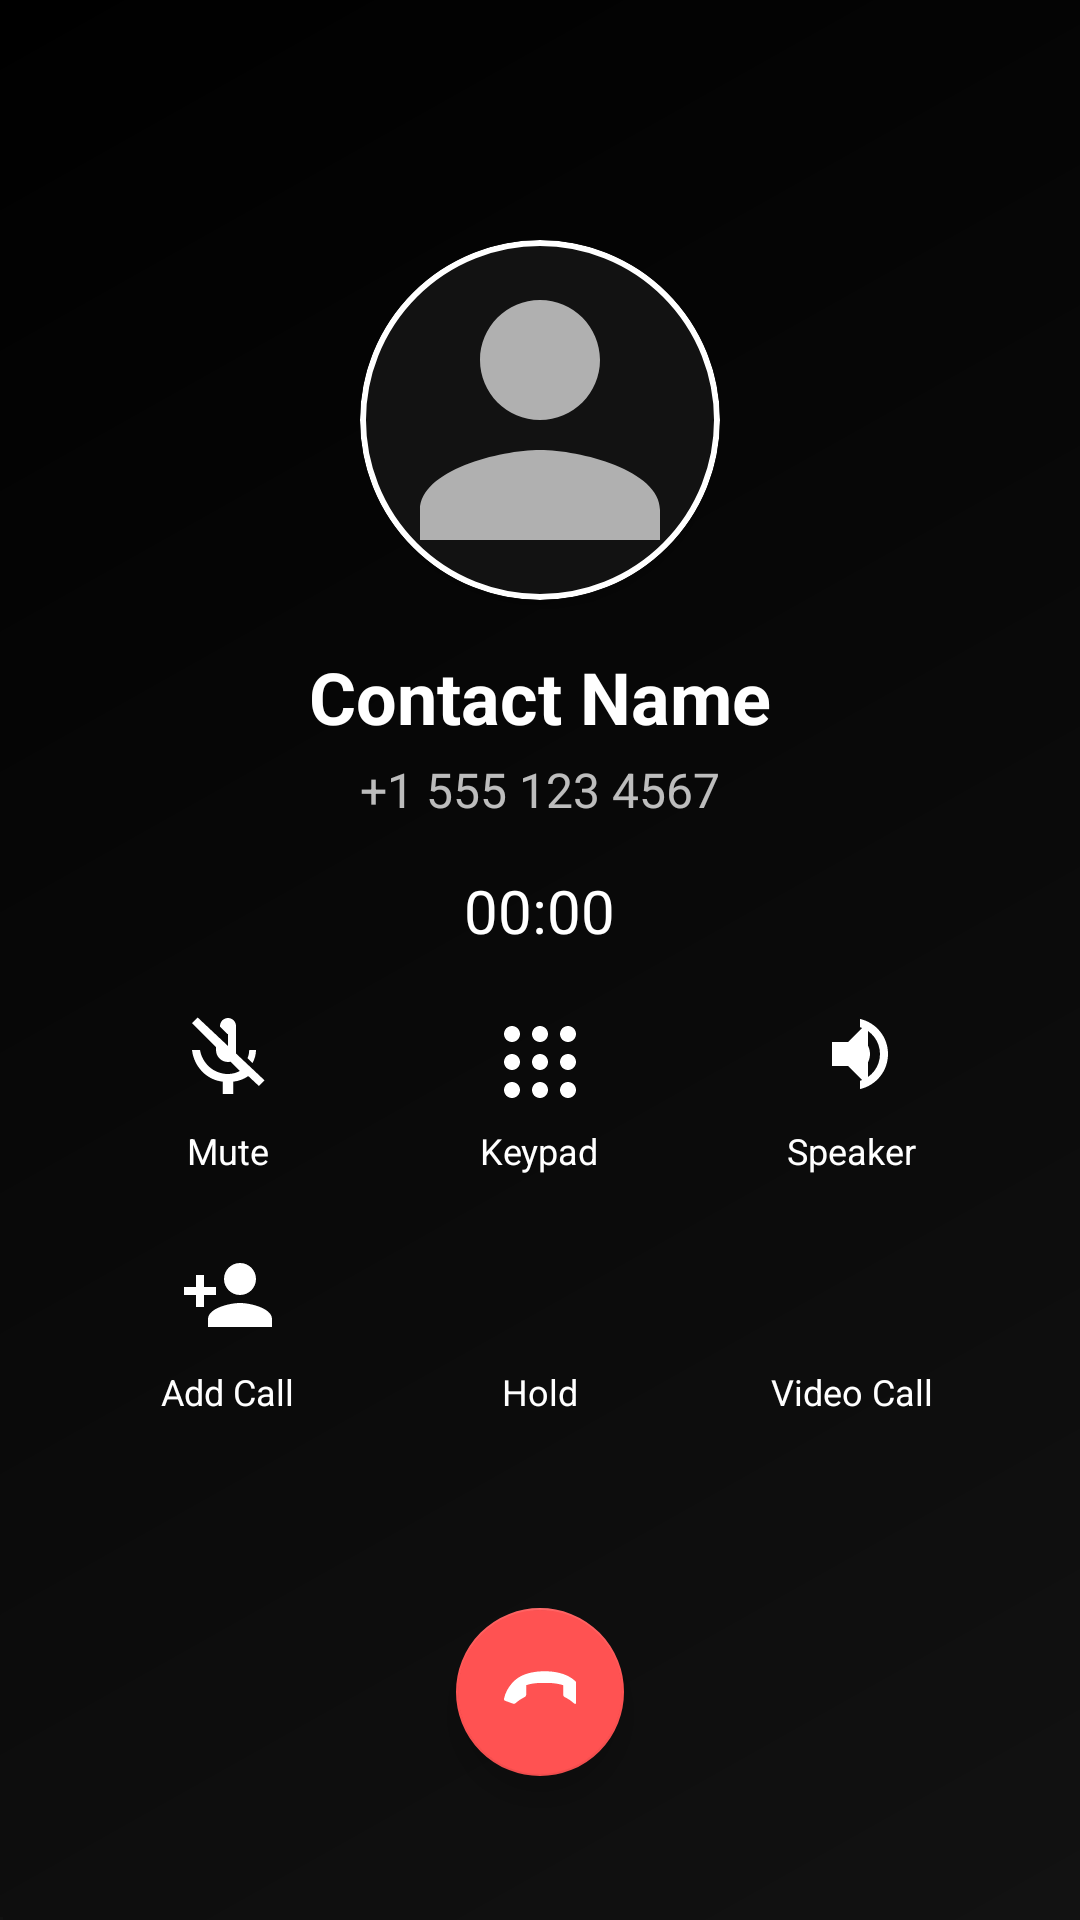

Screen size 1080*1920. Icon name, then its center in pixels as point (x, y):
call end: point (540, 1692)
mic off: point (228, 1055)
